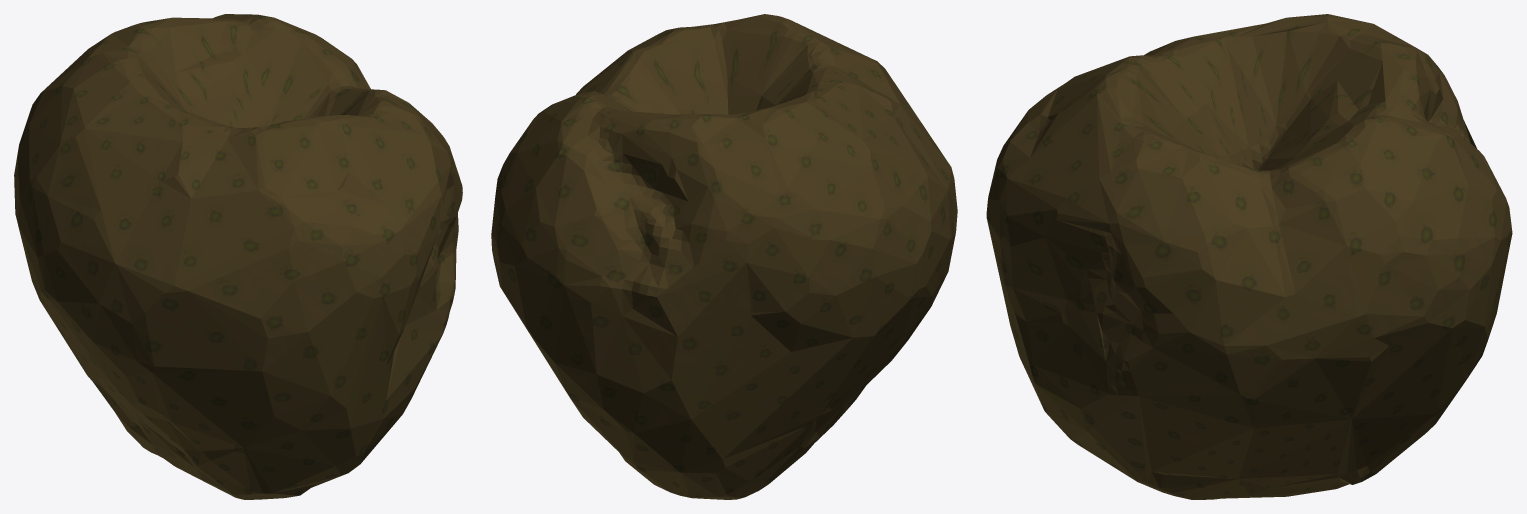
3 renders of one model, left to right at view 1: azimuth 30°, elevation 25°; view 2: azimuth 150°, elevation 25°; view 3: azimuth 270°, elevation 25°, orthographic. The views are drawn at different scales.
Visible parts, largest first — view 1: _003_Meshed; view 2: _003_Meshed; view 3: _003_Meshed.
Part boxes in pixels (<box>): _003_Meshed: <box>14,14,462,499</box>; _003_Meshed: <box>491,14,957,499</box>; _003_Meshed: <box>986,14,1512,499</box>.
Bounding box in the file's own units: 0.0971 × 0.1082 × 0.0983.
Materials: 1 (1 with a texture image).
